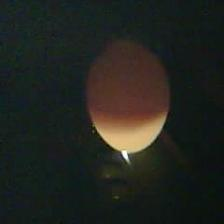fertile: (80, 31, 174, 158)
